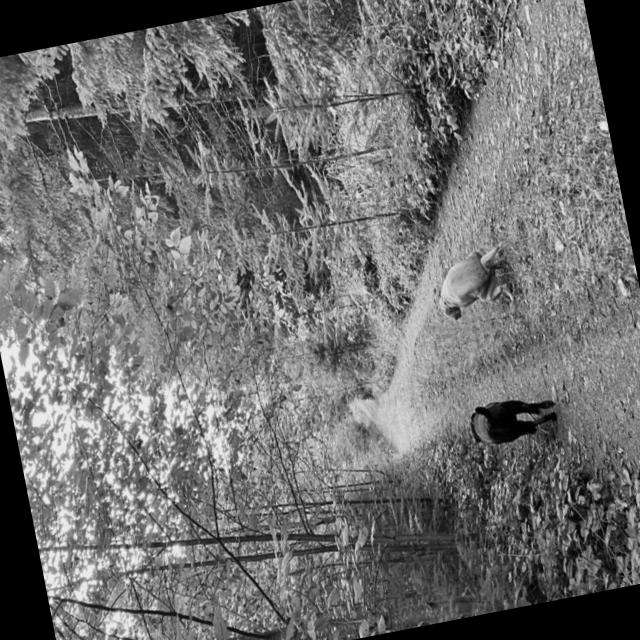squatting: (421, 232, 521, 334)
